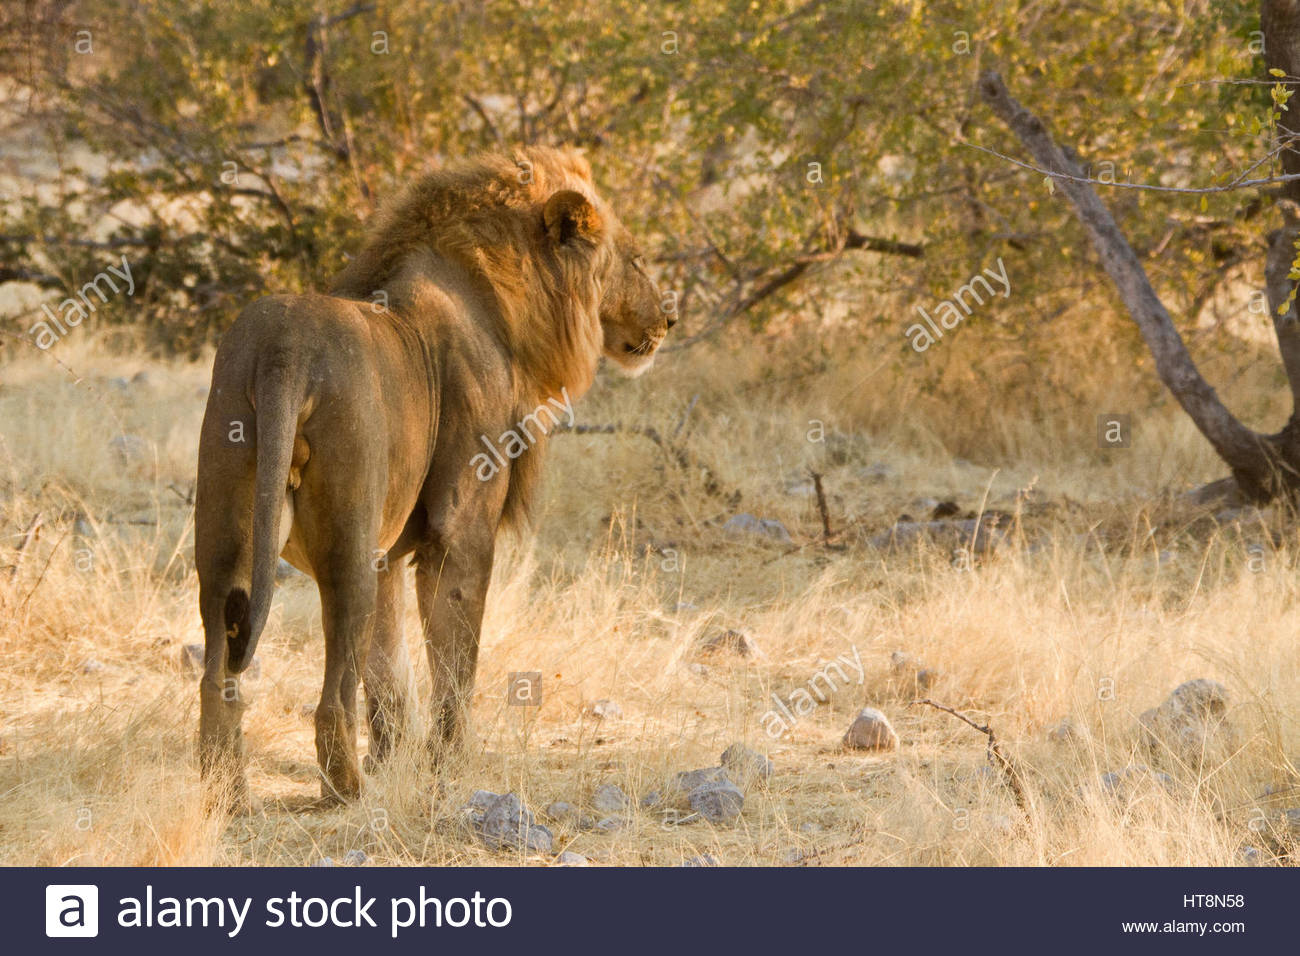lion: (186, 132, 680, 818)
